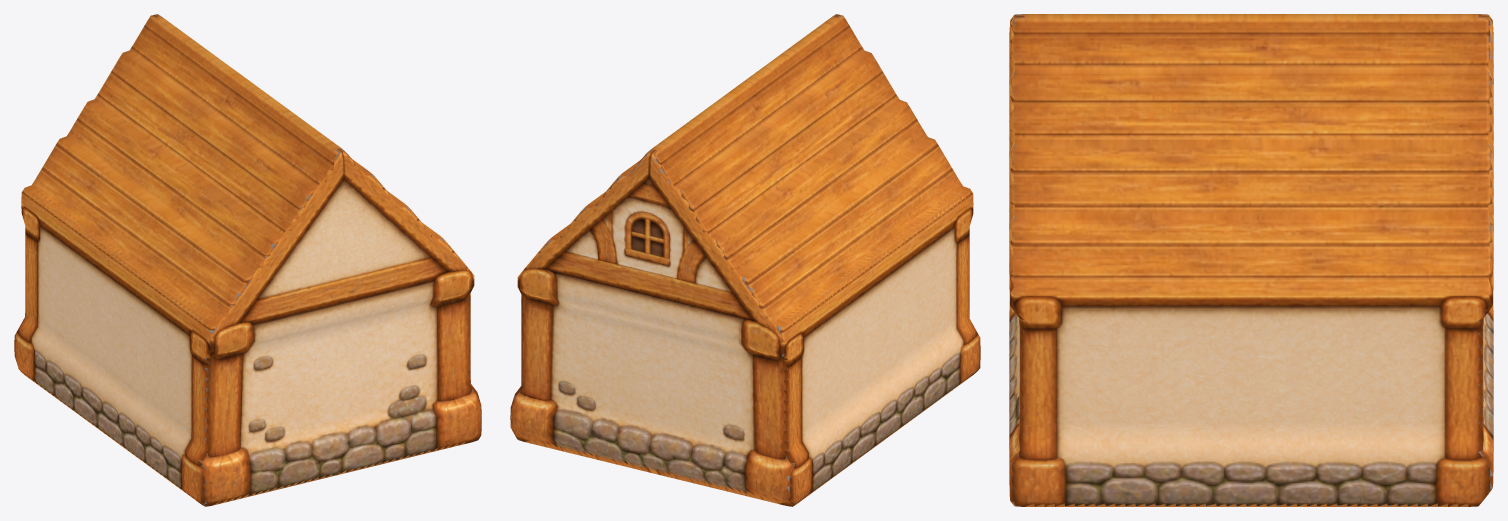
File: house.glb
3 views of the same model, side by side, from view 1: azimuth 30°, elevation 25°; view 2: azimuth 150°, elevation 25°; view 3: azimuth 270°, elevation 25° (orthographic). The views are drawn at different scales.
Size of the model in its own units: 0.9076 by 0.9989 by 1.08.
Materials: 1 (1 with a texture image).
